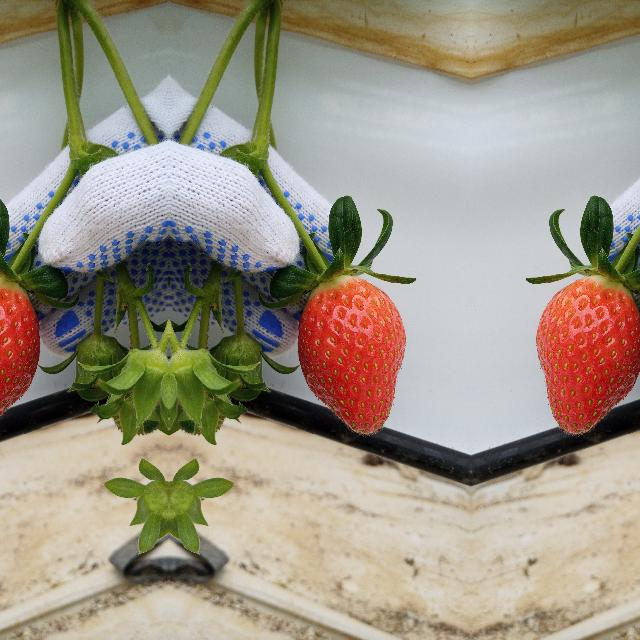Health_100: (296, 276, 406, 434), (535, 275, 640, 434), (0, 275, 39, 434)
